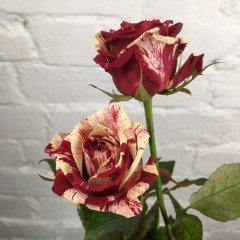Rose: (44, 104, 161, 224), (83, 16, 215, 100)
